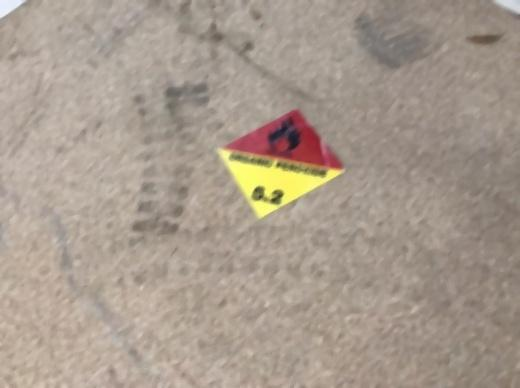organic-peroxide: (218, 107, 350, 219)
